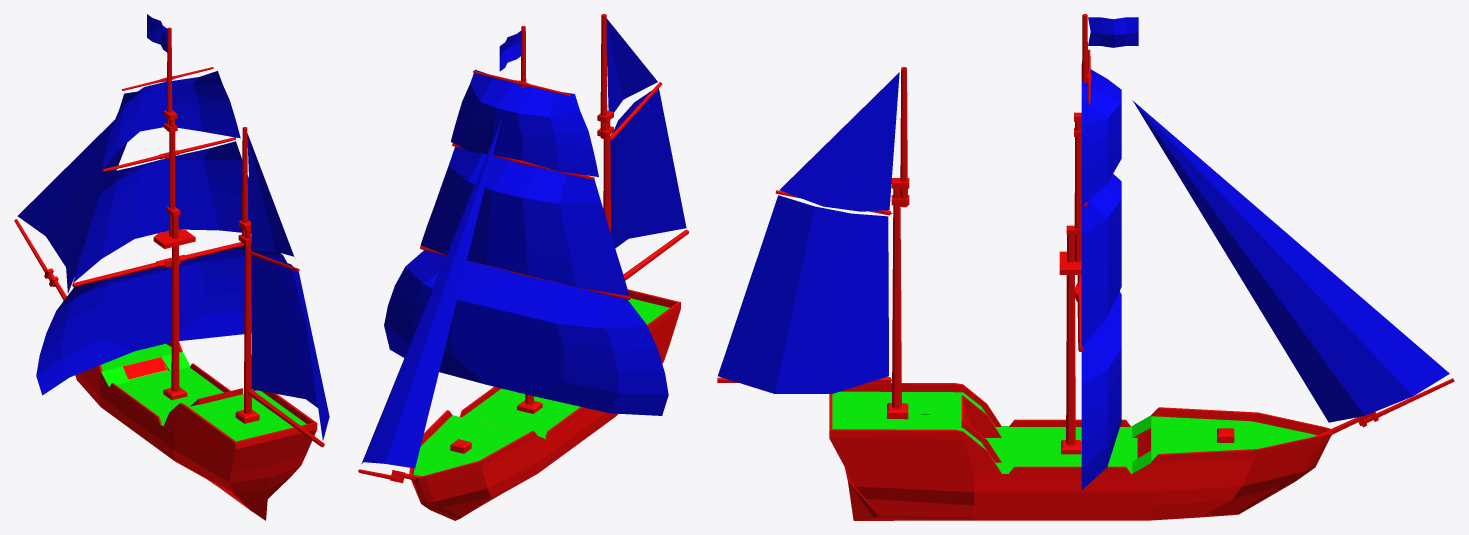
File: ship3.fbx
The picture shows the model from 3 angles, left to right: view 1: azimuth 30°, elevation 25°; view 2: azimuth 150°, elevation 25°; view 3: azimuth 270°, elevation 25°; orthographic projection. The views are drawn at different scales.
Visible parts, largest first — view 1: Cylinder_003, BizainMachta, Cube, Plane_002, Cube_002, Cube_001, BizainMachta_001; view 2: Cylinder_003, BizainMachta, Cube_001, Plane_002, Cube_002, Cube, BizainMachta_001; view 3: BizainMachta, Plane_002, Cube, Cylinder_003, Cube_001, Cube_002.
Boxes of the visible parts, x1,y1,x2,y2 form: Cylinder_003: [36, 14, 286, 395]; BizainMachta: [238, 127, 329, 447]; Cube: [159, 388, 317, 520]; Plane_002: [17, 85, 149, 292]; Cube_002: [108, 363, 230, 450]; Cube_001: [63, 300, 190, 413]; BizainMachta_001: [14, 219, 66, 300]; Cylinder_003: [384, 26, 668, 415]; BizainMachta: [597, 14, 688, 280]; Cube_001: [409, 410, 547, 520]; Plane_002: [361, 119, 501, 468]; Cube_002: [460, 386, 601, 466]; Cube: [600, 289, 680, 427]; BizainMachta_001: [358, 469, 420, 483]; BizainMachta: [717, 67, 909, 408]; Plane_002: [1132, 100, 1449, 422]; Cube: [829, 382, 1009, 520]; Cylinder_003: [1059, 14, 1138, 490]; Cube_001: [1130, 407, 1332, 520]; Cube_002: [1009, 419, 1130, 520].
Size of the model in its own units: 6.52 by 9.85 by 13.
